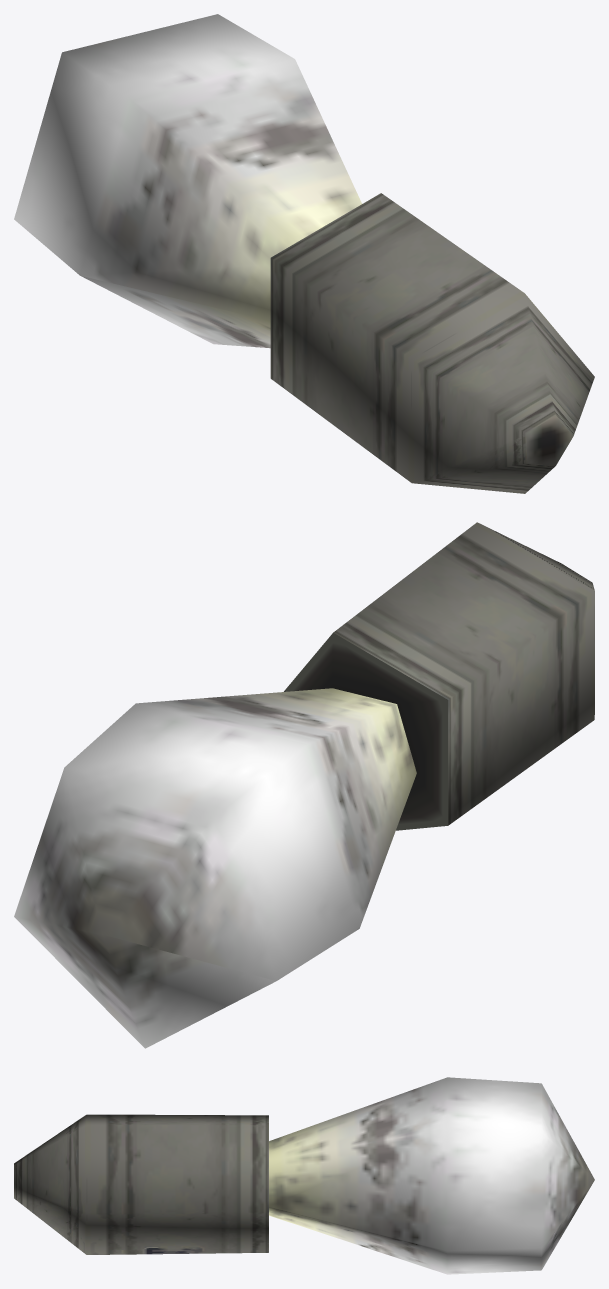
The model's file is utility_lightbulb_bare_on_LOD2.obj.
The picture shows the model from 3 angles, top to bottom: view 1: azimuth 30°, elevation 25°; view 2: azimuth 150°, elevation 25°; view 3: azimuth 270°, elevation 25°; orthographic projection. The views are drawn at different scales.
Parts seen in each view (by area): view 1: mtl_utility_lightbulb_bare_on, mtl_utility_lightbulb_bare_off; view 2: mtl_utility_lightbulb_bare_on, mtl_utility_lightbulb_bare_off; view 3: mtl_utility_lightbulb_bare_on, mtl_utility_lightbulb_bare_off.
Part boxes in pixels (x1,y1,x2,y2): mtl_utility_lightbulb_bare_on: (14,14,361,348); mtl_utility_lightbulb_bare_off: (270,193,594,493); mtl_utility_lightbulb_bare_on: (14,688,416,1048); mtl_utility_lightbulb_bare_off: (284,522,594,830); mtl_utility_lightbulb_bare_on: (269,1077,594,1274); mtl_utility_lightbulb_bare_off: (14,1114,268,1254).
Bounding box in the file's own units: 7.61 × 7.24 × 22.23.
